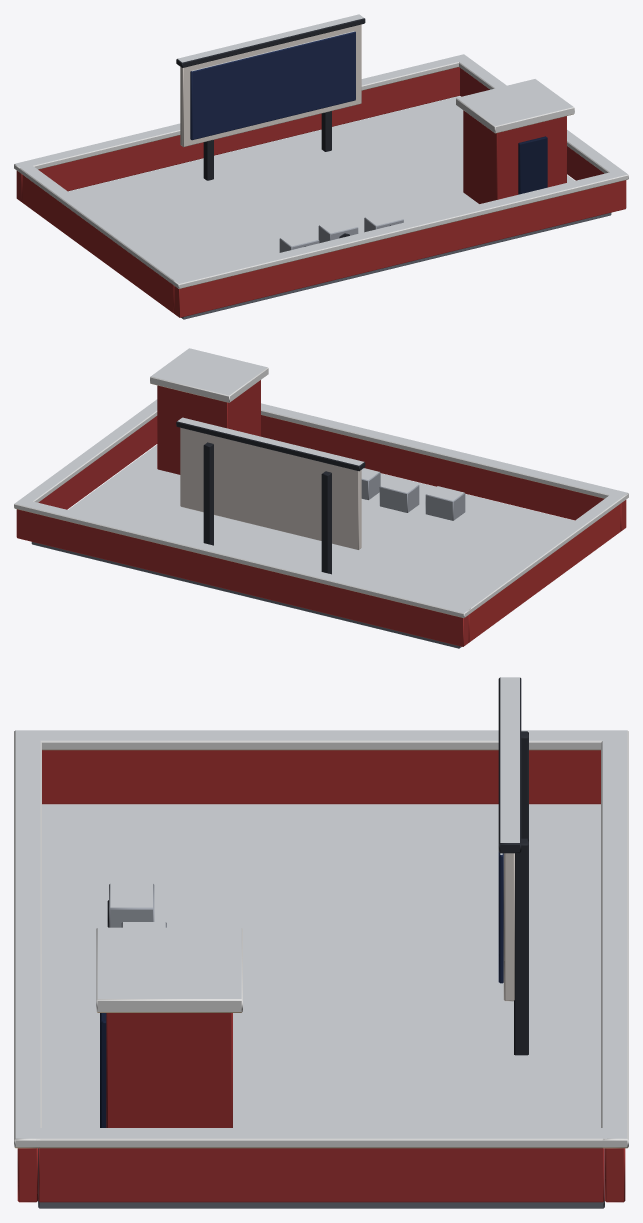
The model's file is PostOffice_Roof.glb.
3 renders of one model, top to bottom at view 1: azimuth 30°, elevation 25°; view 2: azimuth 150°, elevation 25°; view 3: azimuth 270°, elevation 25°, orthographic. The views are drawn at different scales.
Parts seen in each view (by area): view 1: PostOffice_Roof; view 2: PostOffice_Roof; view 3: PostOffice_Roof.
Part boxes in pixels (x1,y1,x2,y2): PostOffice_Roof: [14, 14, 628, 319]; PostOffice_Roof: [14, 348, 628, 648]; PostOffice_Roof: [14, 677, 628, 1208].
Bounding box in the file's own units: 38.3 × 11.1 × 24.3.
